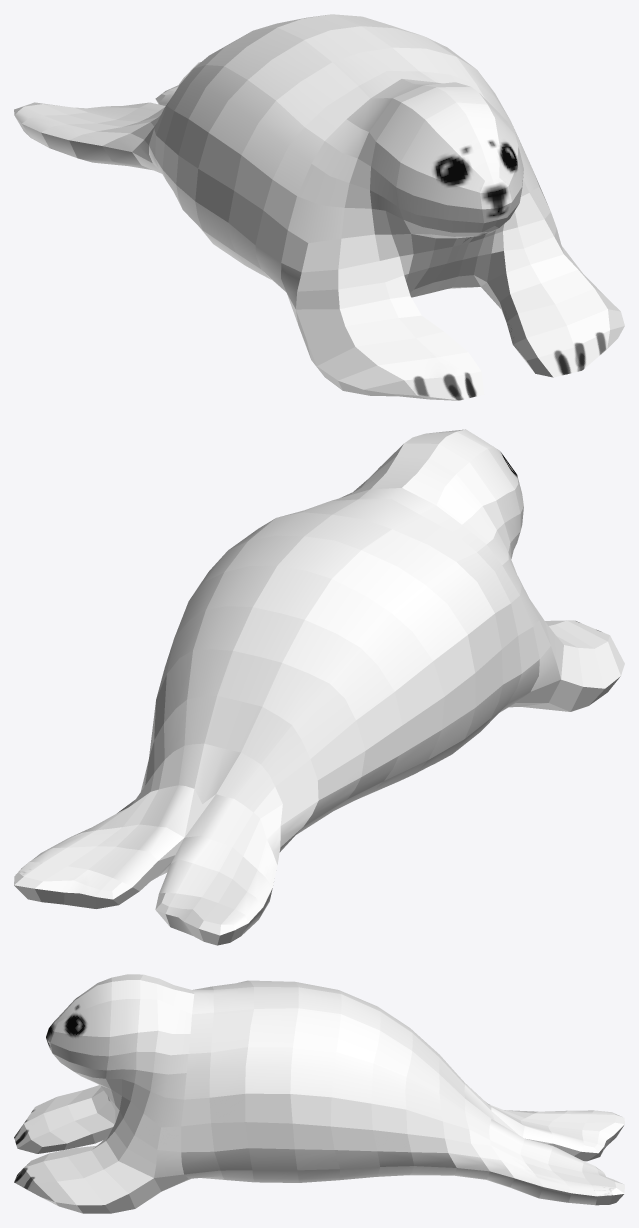
The model's file is sealTextv01.fbx.
The picture shows the model from 3 angles, top to bottom: view 1: azimuth 30°, elevation 25°; view 2: azimuth 150°, elevation 25°; view 3: azimuth 270°, elevation 25°; orthographic projection. The views are drawn at different scales.
Parts seen in each view (by area): view 1: polySurface1; view 2: polySurface1; view 3: polySurface1.
Boxes of the visible parts, <box> form: polySurface1: <box>14,14,624,400</box>; polySurface1: <box>14,429,624,945</box>; polySurface1: <box>14,974,624,1213</box>.
Size of the model in its own units: 36.33 by 30.81 by 88.27.
1 material, 1 textured.
